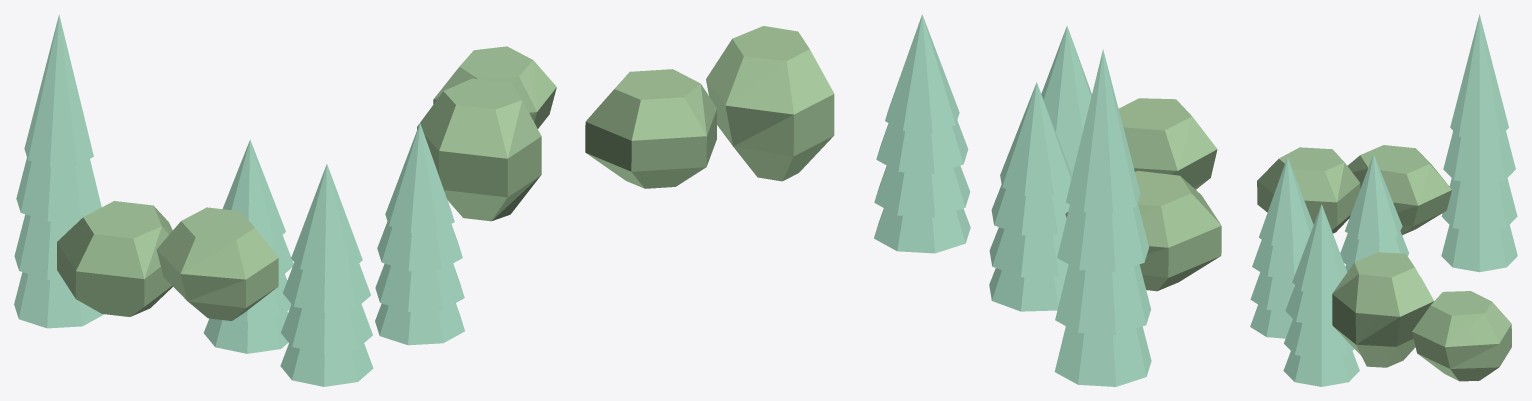
File: Leaves.dae
The picture shows the model from 3 angles, left to right: view 1: azimuth 30°, elevation 25°; view 2: azimuth 150°, elevation 25°; view 3: azimuth 270°, elevation 25°; orthographic projection. The views are drawn at different scales.
Visible parts, largest first — view 1: Trees; view 2: Trees; view 3: Trees.
Part boxes in pixels (x1=…): Trees: x1=14, y1=14, x2=556, y2=386; Trees: x1=585, y1=14, x2=1221, y2=386; Trees: x1=1250, y1=14, x2=1517, y2=386.
Size of the model in its own units: 5.09 by 2.75 by 2.85.
